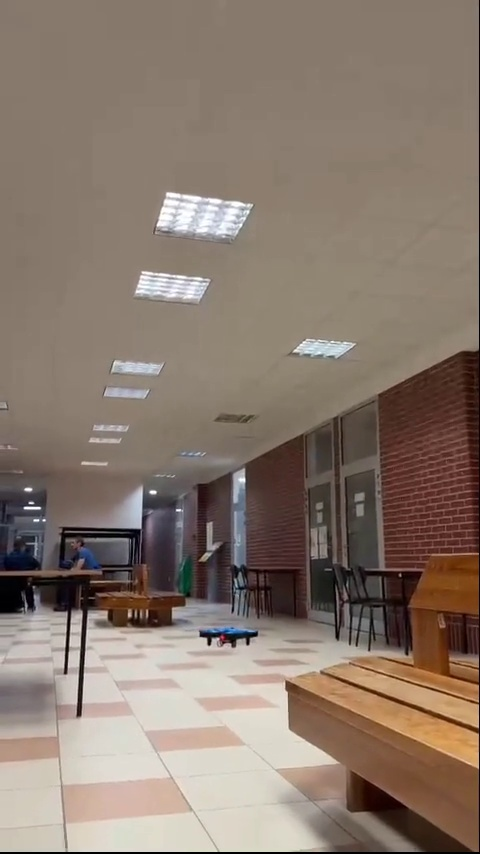drone: (200, 628, 258, 650)
no vest: (62, 530, 96, 592), (5, 533, 35, 599)
